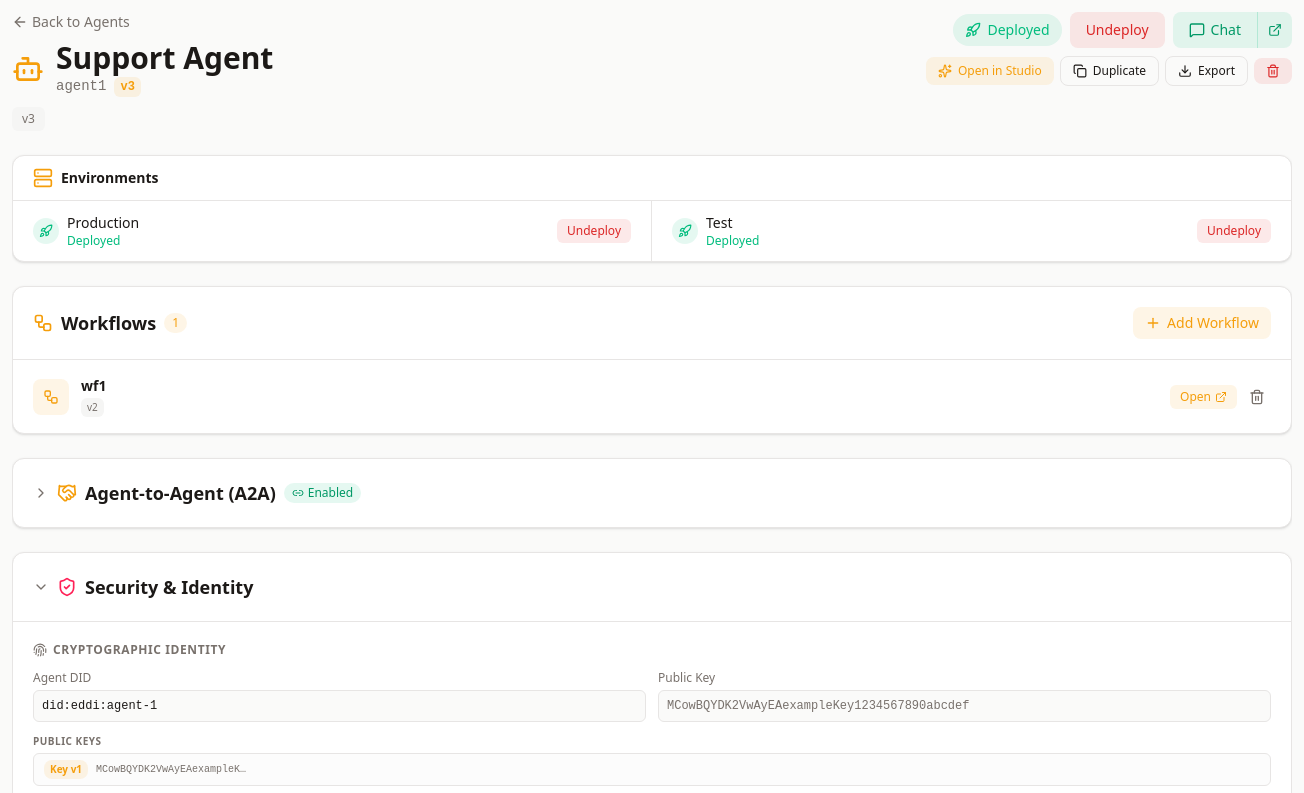
Test: AgentDetailPage › shows A2A enabled state with description and skills
What coordinates should you click on to do the following:
click the button "Agent-to-Agent (A2A) Enabled"
I would click on:
 (180, 493)
Its box is [13,459,1291,527].
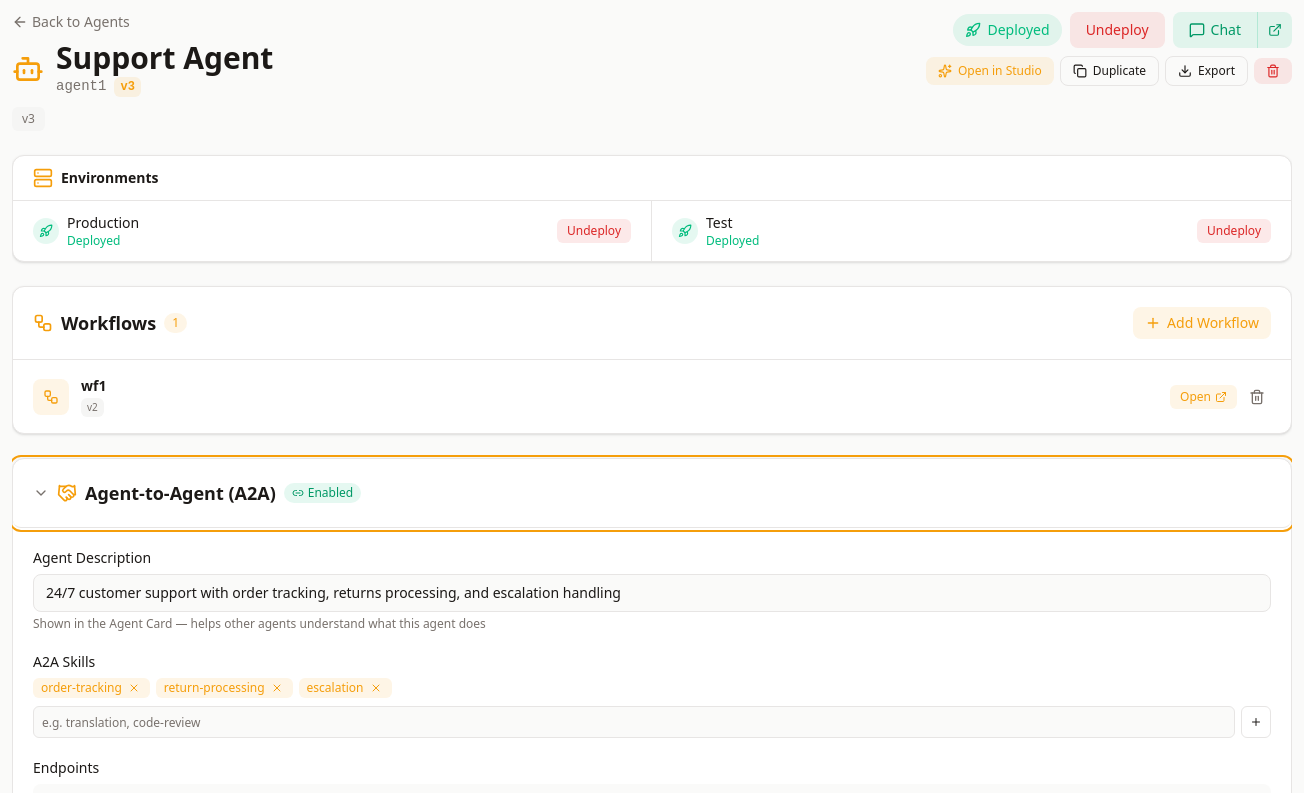
Now the field with test id "a2a-description" is shown, box [33,574,1271,612]
Now the field with test id "a2a-skill-input" is shown, box [33,706,1235,738]
